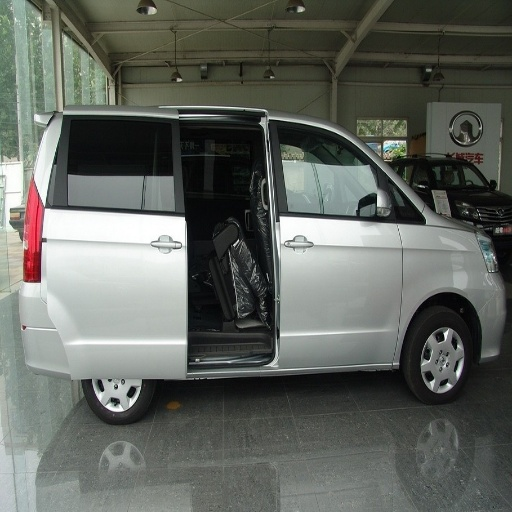back_left_light: (23, 188, 42, 281)
tailgate: (95, 356, 140, 405)
trunk: (45, 223, 175, 375), (427, 247, 498, 330)
